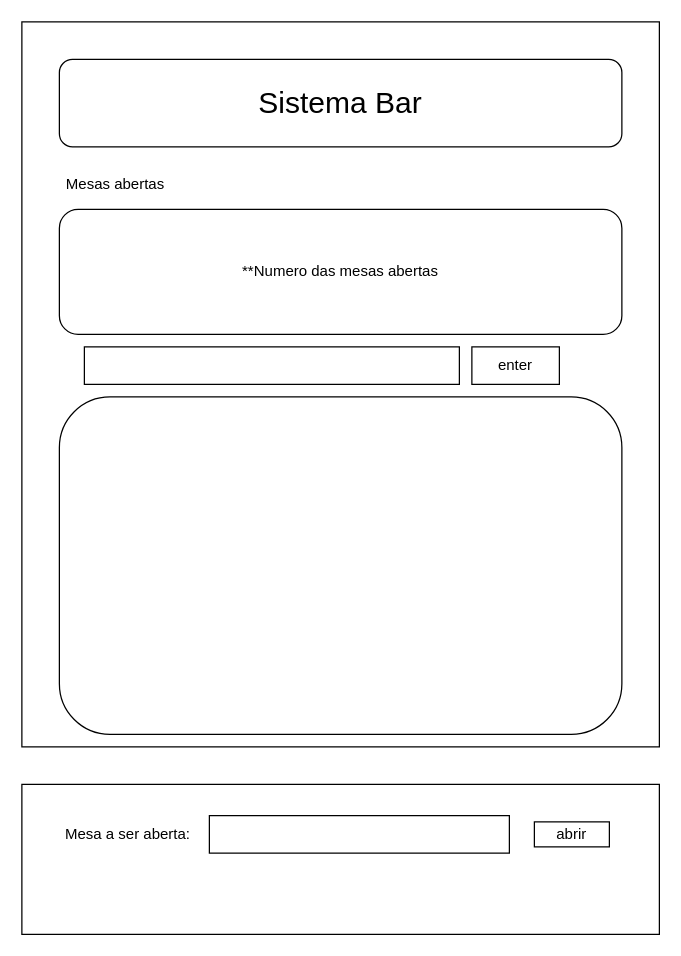
This 681x956 diagram has some shape labels left out. Here are the shapes that lost their labels. From the top down, the centre of each, then its label:
At [271,365]: "Digite a opção".
At [340,565]: "Opções de uso".
